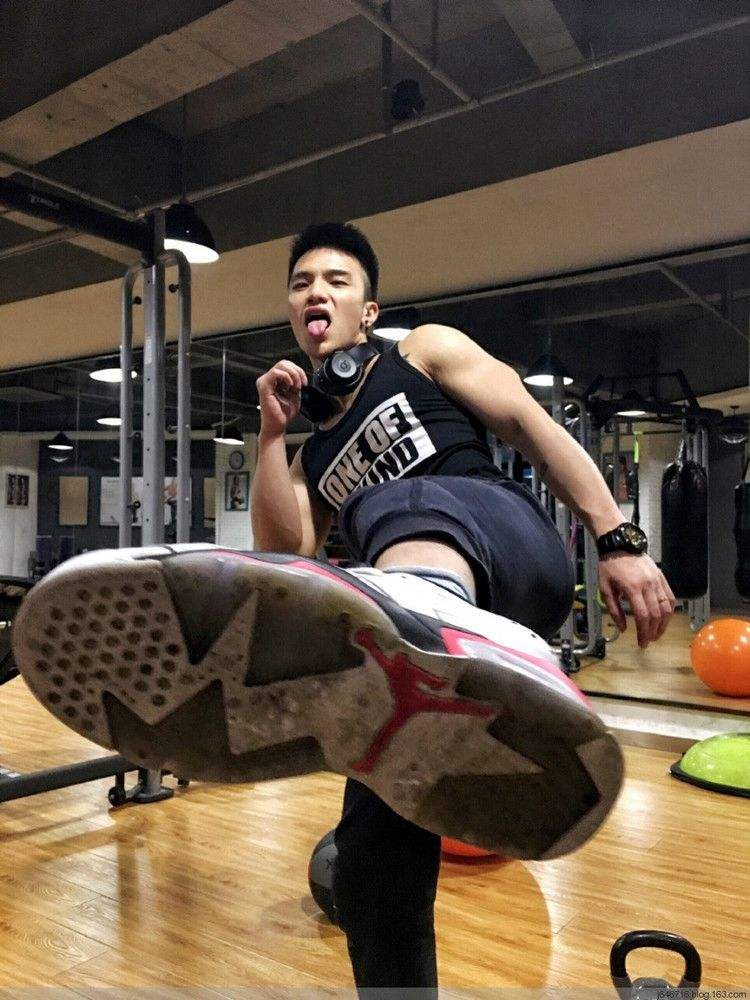person: (195, 222, 627, 952)
